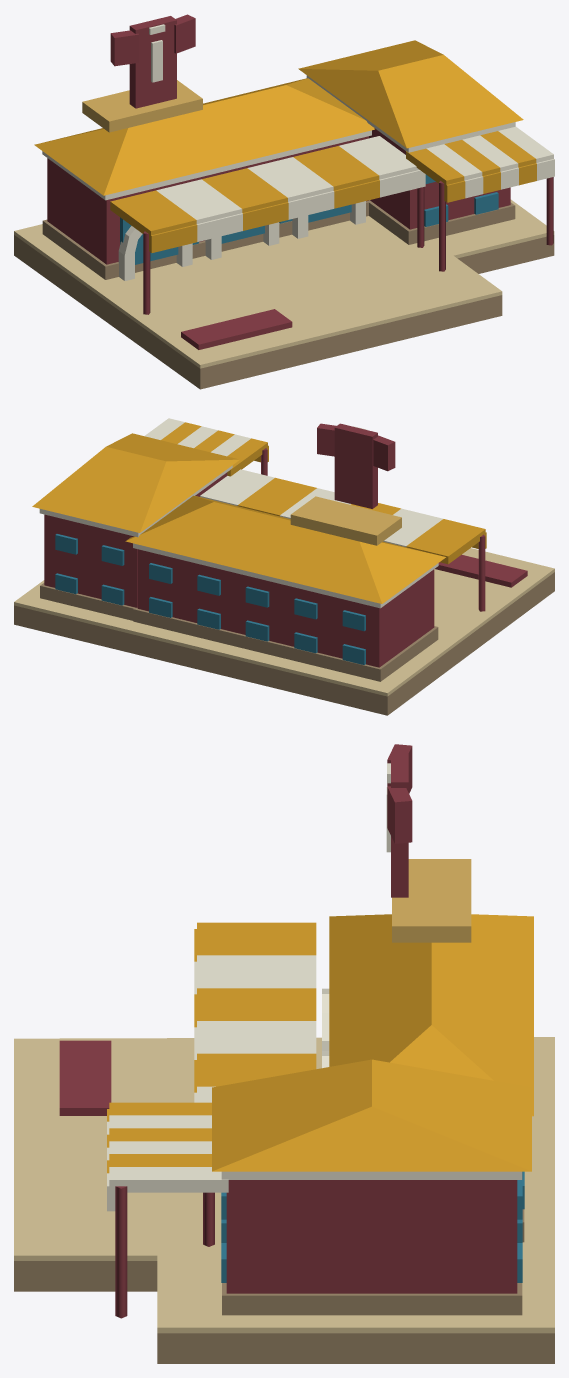
Rendered from club-shop-lv1.glb.
3 views of the same model, one above another, from view 1: azimuth 30°, elevation 25°; view 2: azimuth 150°, elevation 25°; view 3: azimuth 270°, elevation 25° (orthographic). The views are drawn at different scales.
Parts seen in each view (by area): view 1: foundation_sand, market_row_roof_ochre, retail_corner_roof_ochre, foundation_stoneDark, awnings_ochre, awnings_white, market_row_burgundy, jersey_sign_burgundy, awning_valance_ochre, awning_valance_white, sign_plinth_gold, market_row_stoneDark (+10 smaller); view 2: market_row_roof_ochre, market_row_burgundy, foundation_sand, retail_corner_roof_ochre, foundation_stoneDark, awnings_ochre, retail_corner_burgundy, jersey_sign_burgundy, market_row_stoneDark, awnings_white, market_row_windows_glass, sign_plinth_gold (+6 smaller); view 3: foundation_sand, retail_corner_burgundy, retail_corner_roof_ochre, market_row_roof_ochre, foundation_stoneDark, awnings_ochre, awnings_white, retail_corner_stoneDark, sign_plinth_gold, carpet_burgundy, jersey_sign_burgundy, retail_corner_white (+2 smaller).
Part boxes in pixels (x1,y1,x2,y2): foundation_sand: [14, 199, 554, 368]; market_row_roof_ochre: [34, 78, 374, 195]; retail_corner_roof_ochre: [298, 40, 523, 148]; foundation_stoneDark: [14, 235, 554, 389]; awnings_ochre: [110, 131, 536, 239]; awnings_white: [156, 126, 553, 223]; market_row_burgundy: [47, 136, 368, 264]; jersey_sign_burgundy: [110, 14, 195, 108]; awning_valance_ochre: [149, 163, 536, 252]; awning_valance_white: [197, 159, 554, 241]; sign_plinth_gold: [82, 80, 202, 132]; market_row_stoneDark: [42, 201, 368, 279]; market_row_roof_ochre: [125, 495, 445, 603]; market_row_burgundy: [137, 549, 434, 667]; foundation_sand: [14, 548, 554, 696]; retail_corner_roof_ochre: [32, 433, 239, 532]; foundation_stoneDark: [14, 572, 554, 715]; awnings_ochre: [161, 422, 485, 564]; retail_corner_burgundy: [44, 472, 227, 607]; jersey_sign_burgundy: [317, 423, 395, 508]; market_row_stoneDark: [133, 609, 438, 681]; awnings_white: [144, 418, 443, 546]; market_row_windows_glass: [149, 563, 365, 664]; sign_plinth_gold: [290, 496, 401, 545]; foundation_sand: [14, 1037, 554, 1333]; retail_corner_burgundy: [226, 1180, 517, 1293]; retail_corner_roof_ochre: [212, 1059, 531, 1171]; market_row_roof_ochre: [329, 914, 533, 1116]; foundation_stoneDark: [14, 1261, 554, 1363]; awnings_ochre: [109, 922, 316, 1166]; awnings_white: [109, 955, 316, 1192]; retail_corner_stoneDark: [222, 1283, 522, 1315]; sign_plinth_gold: [392, 859, 471, 942]; carpet_burgundy: [59, 1040, 111, 1115]; jersey_sign_burgundy: [387, 744, 412, 897]; retail_corner_white: [221, 1171, 522, 1179].
Bounding box in the file's own units: 1 × 0.5896 × 0.7861.
